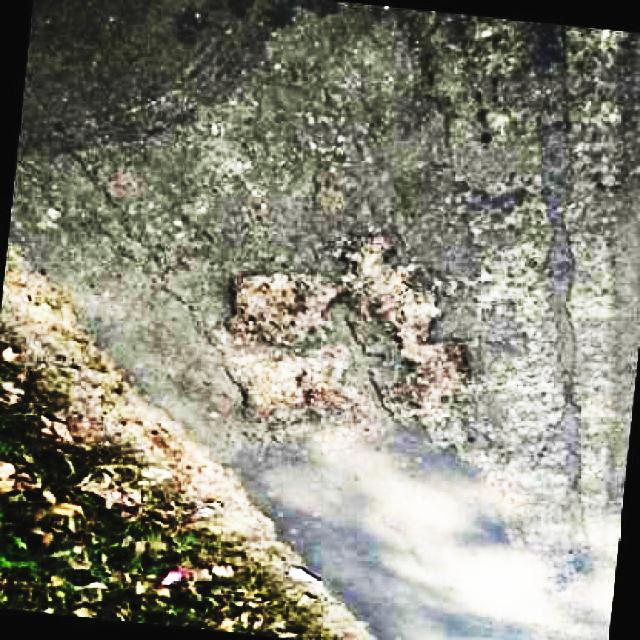pothole: (355, 235, 448, 352), (223, 264, 335, 344)
